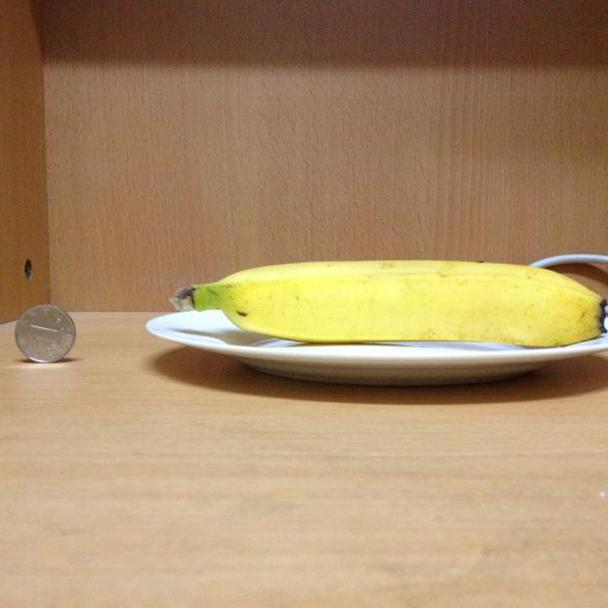banana: (168, 255, 607, 351)
